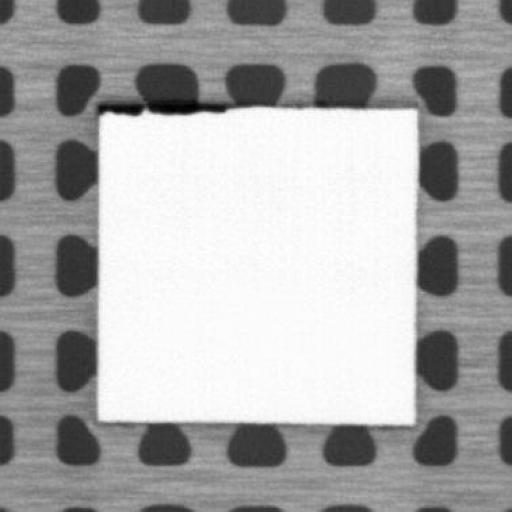DIE_BROKEN: (95, 100, 230, 115)
